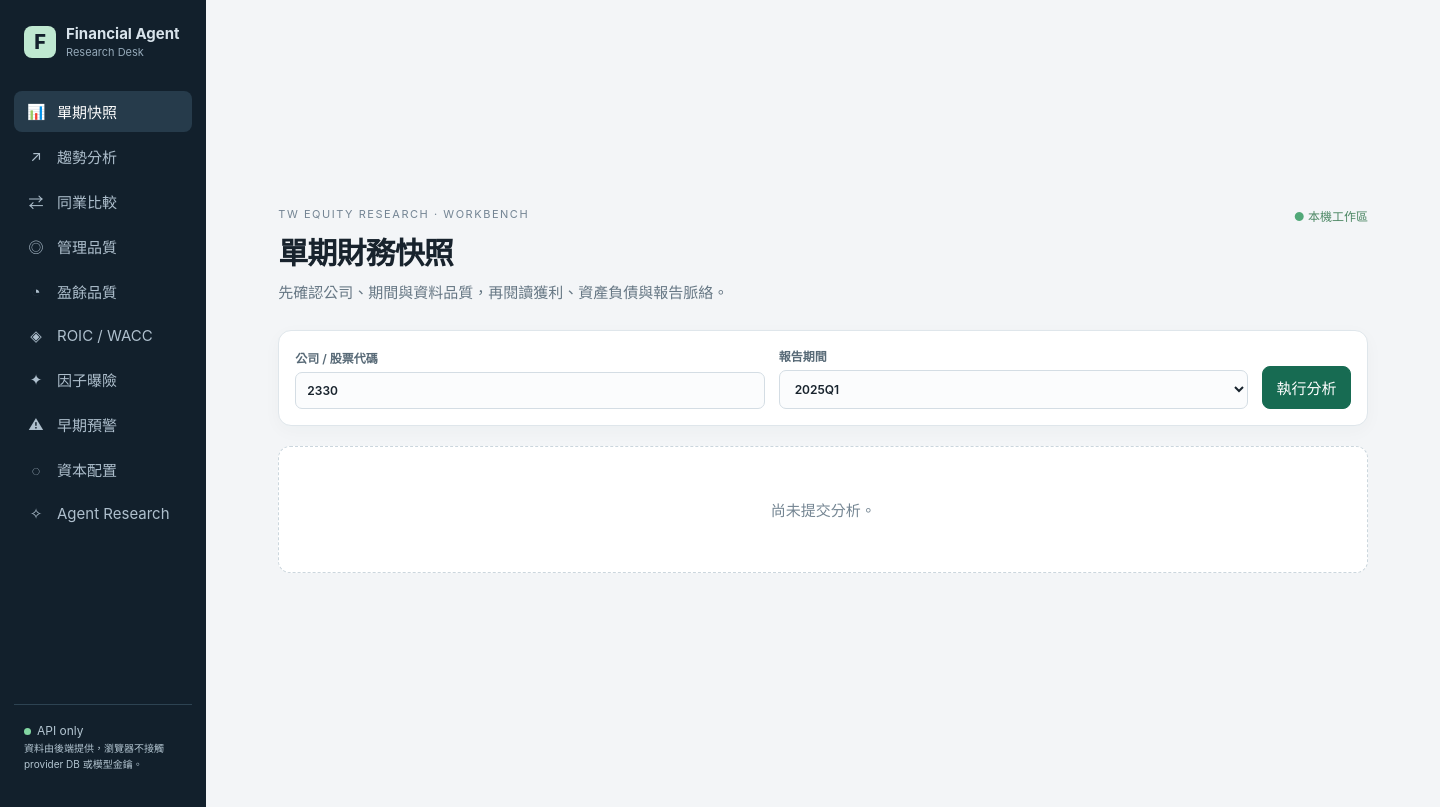
Test: workbench › renders nullable snapshot values as em dashes
Select "2025Q1" in the dropdown labelled "報告期間" at [1013, 390], box x1=779 y1=370 x2=1248 y2=409
Click the button "執行分析" at [1306, 387], box x1=1262 y1=366 x2=1351 y2=409
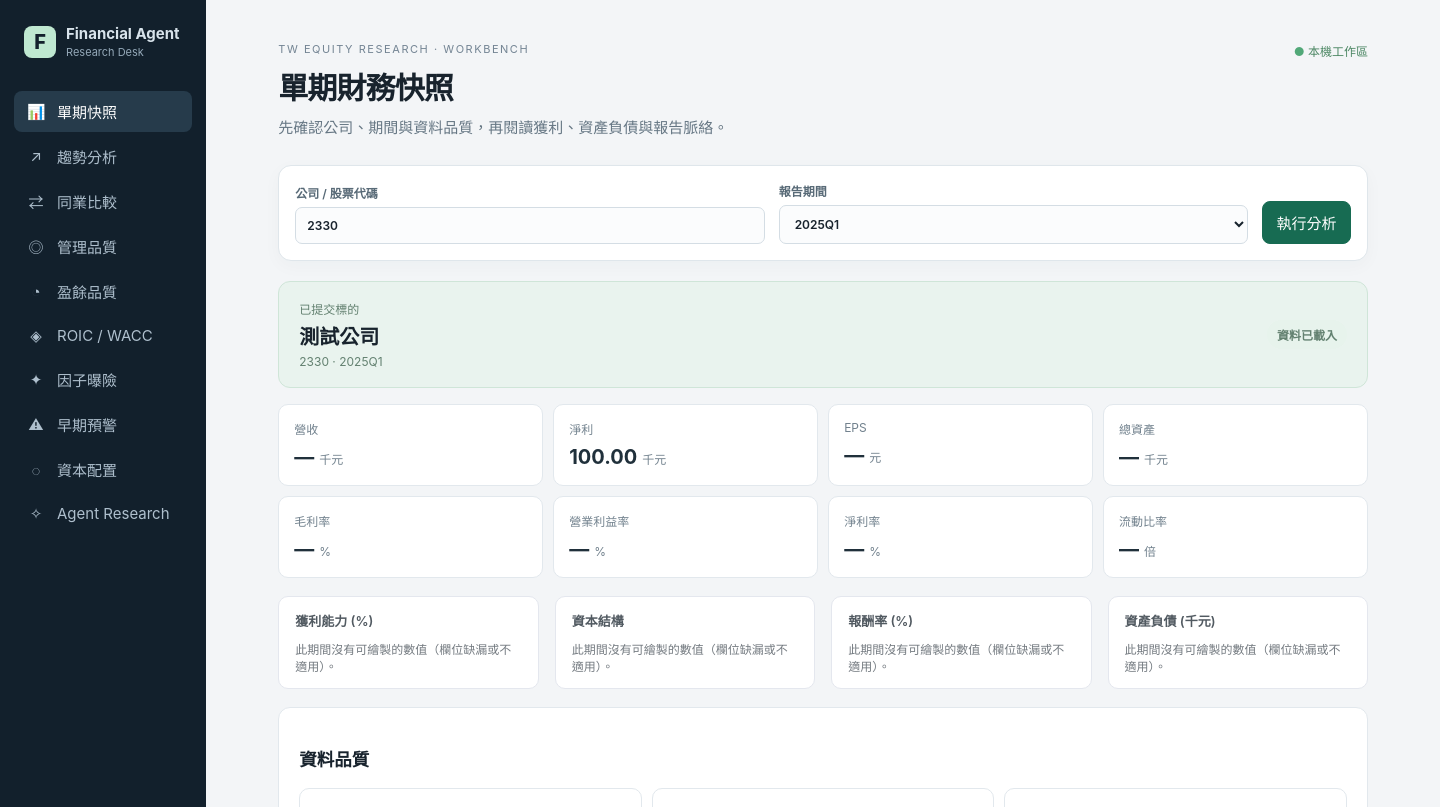
Now the text "—" below "營收" is shown, box x1=294 y1=445 x2=314 y2=469
